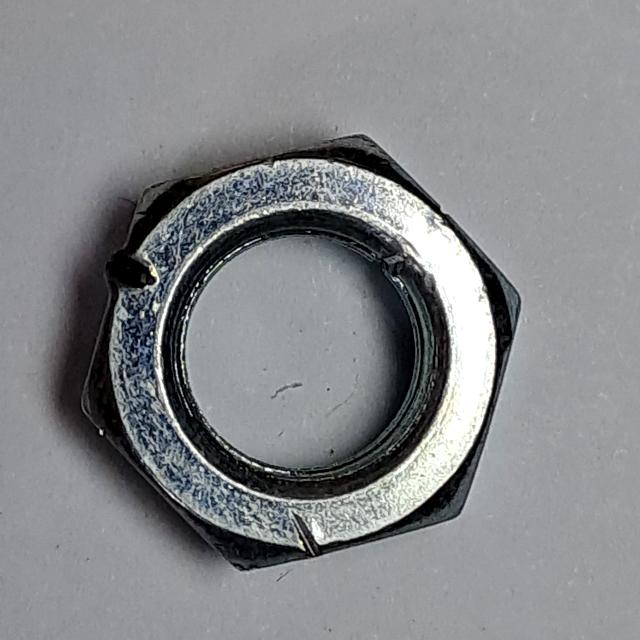Scratches: (68, 130, 531, 585)
